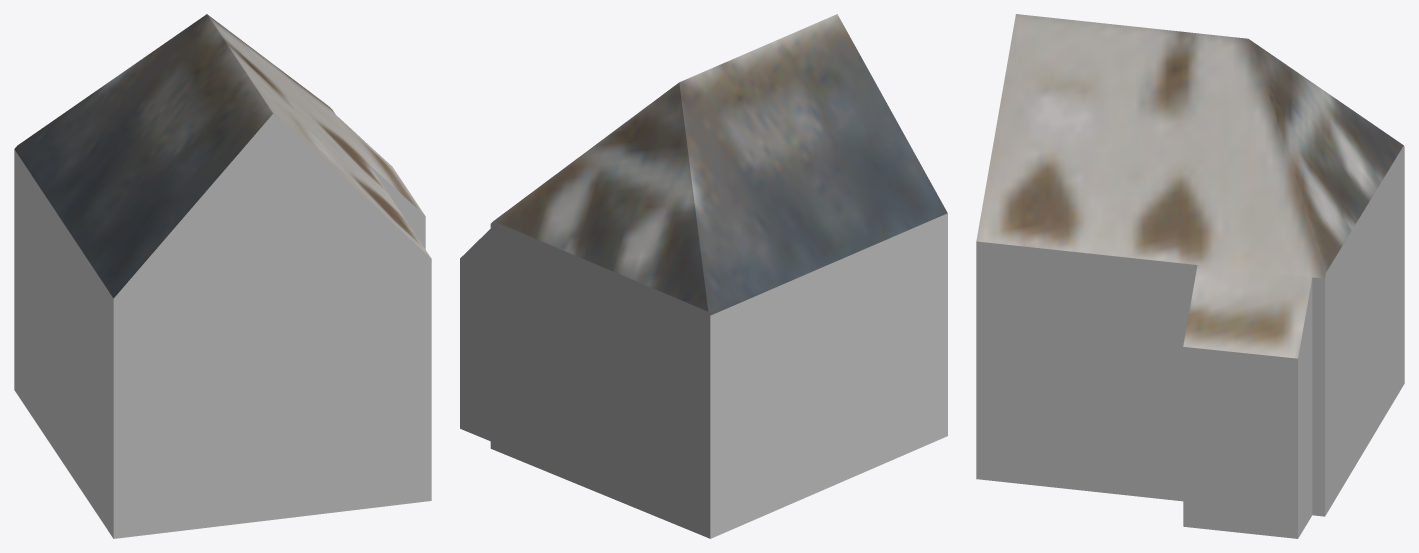
File: DEBW_0010007Txf4.gltf
The picture shows the model from 3 angles, left to right: view 1: azimuth 30°, elevation 25°; view 2: azimuth 150°, elevation 25°; view 3: azimuth 270°, elevation 25°; orthographic projection. The views are drawn at different scales.
Parts seen in each view (by area): view 1: Z_UP; view 2: Z_UP; view 3: Z_UP.
Boxes of the visible parts, box(x1,y1,x2,y2) form: Z_UP: box(14, 14, 431, 538); Z_UP: box(460, 14, 947, 538); Z_UP: box(976, 14, 1404, 538).
Bounding box in the file's own units: 14.34 × 13.84 × 13.46.
Materials: 2 (1 with a texture image).
